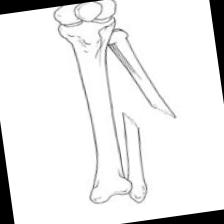open-compound-fracture: (48, 0, 193, 211)
